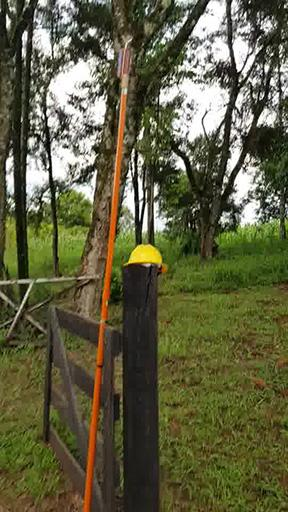Detector_Tensao_Contato: (115, 36, 134, 79)
Vara_Manobra: (83, 79, 129, 512)
